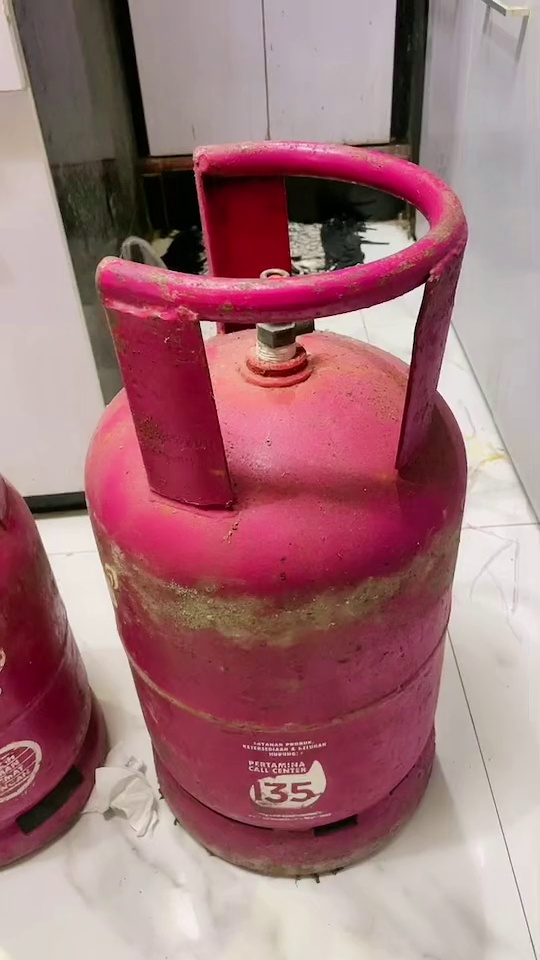bright_gas: (85, 140, 466, 880), (1, 470, 111, 870)
